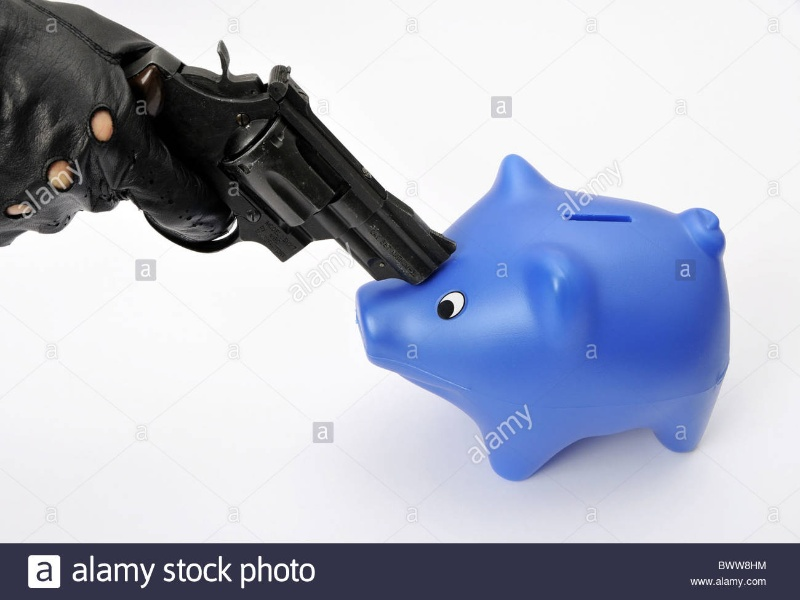gun: (72, 29, 445, 295)
